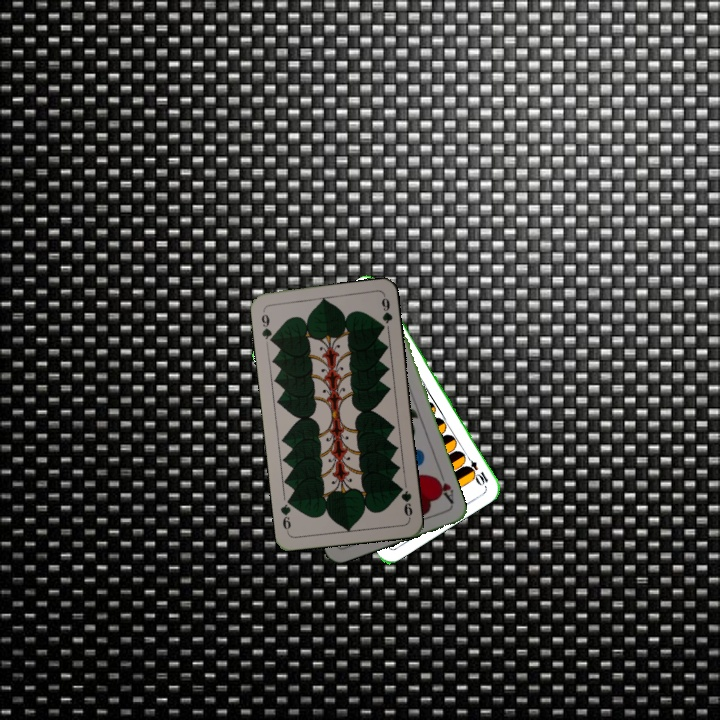E10: (460, 451, 491, 488)
G9: (394, 481, 415, 521), (257, 307, 277, 346)
HA: (430, 468, 456, 506)
